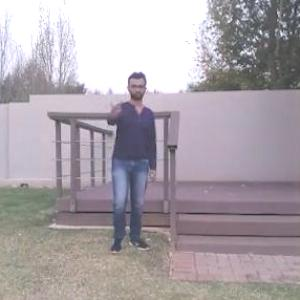takeoff-hand: (102, 92, 127, 121)
